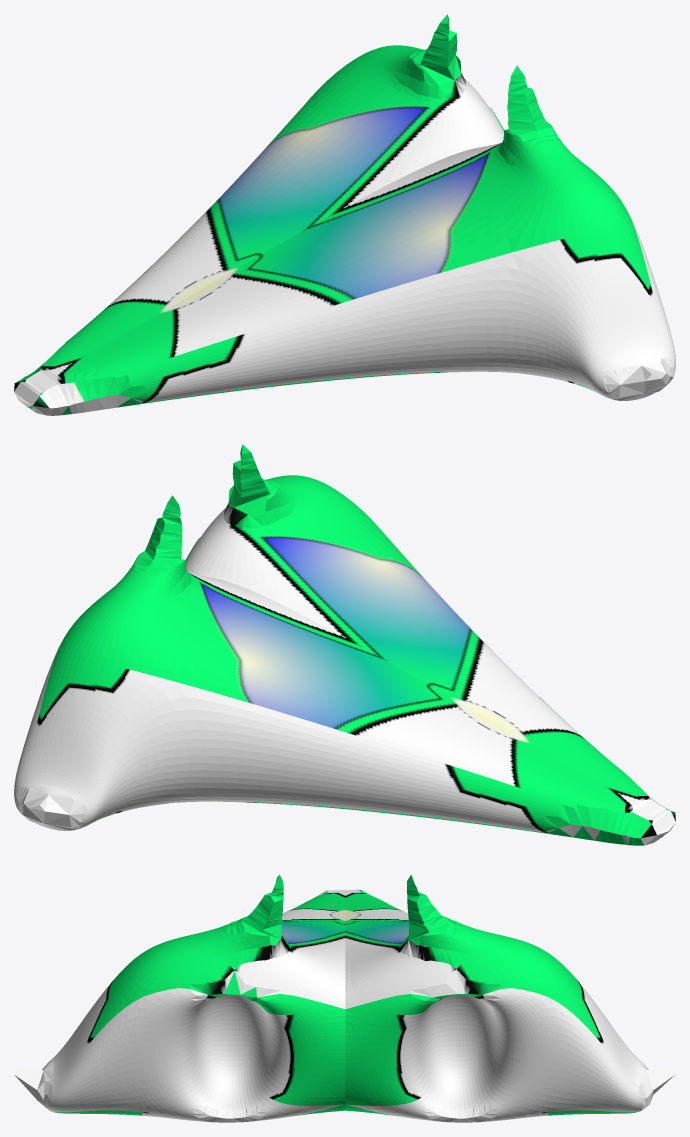
The model's file is tank_smooth.obj.
The picture shows the model from 3 angles, top to bottom: view 1: azimuth 30°, elevation 25°; view 2: azimuth 150°, elevation 25°; view 3: azimuth 270°, elevation 25°; orthographic projection. The views are drawn at different scales.
Visible parts, largest first — view 1: Cube_Cube.001; view 2: Cube_Cube.001; view 3: Cube_Cube.001.
Part boxes in pixels (box(x1,y1,x2,y2)): Cube_Cube.001: box(14, 14, 675, 415); Cube_Cube.001: box(14, 444, 675, 845); Cube_Cube.001: box(14, 874, 675, 1122).
Bounding box in the file's own units: 2.88 × 1.4 × 3.42.
1 material, 1 textured.
